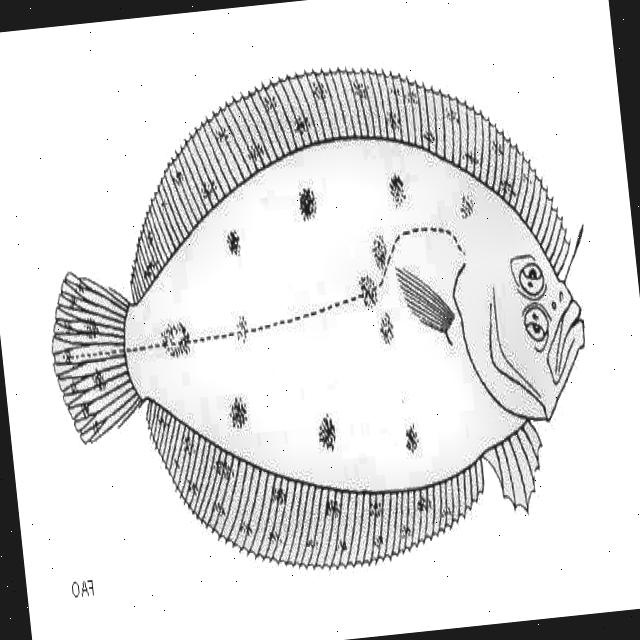fish: (25, 41, 618, 596)
